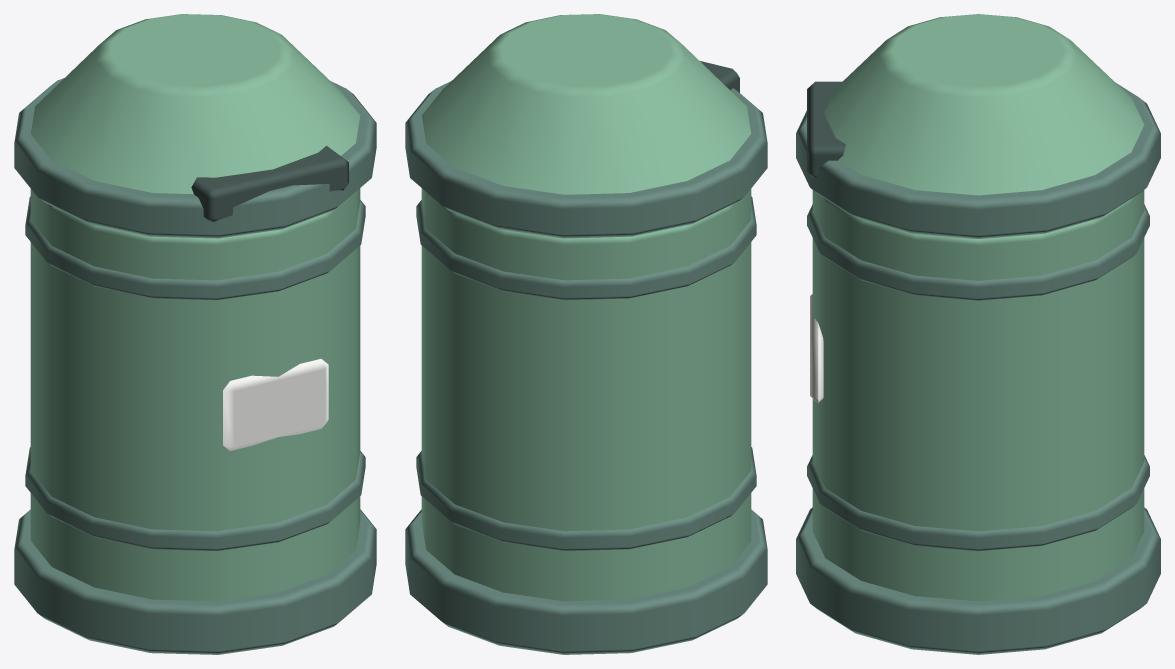
File: street_bin.glb
The picture shows the model from 3 angles, left to right: view 1: azimuth 30°, elevation 25°; view 2: azimuth 150°, elevation 25°; view 3: azimuth 270°, elevation 25°; orthographic projection.
Visible parts, largest first — view 1: bin; view 2: bin; view 3: bin.
Part boxes in pixels (x1,y1,x2,y2): bin: [14, 14, 376, 654]; bin: [405, 14, 767, 654]; bin: [796, 14, 1160, 654].
Size of the model in its own units: 0.66 by 1.06 by 0.66.
